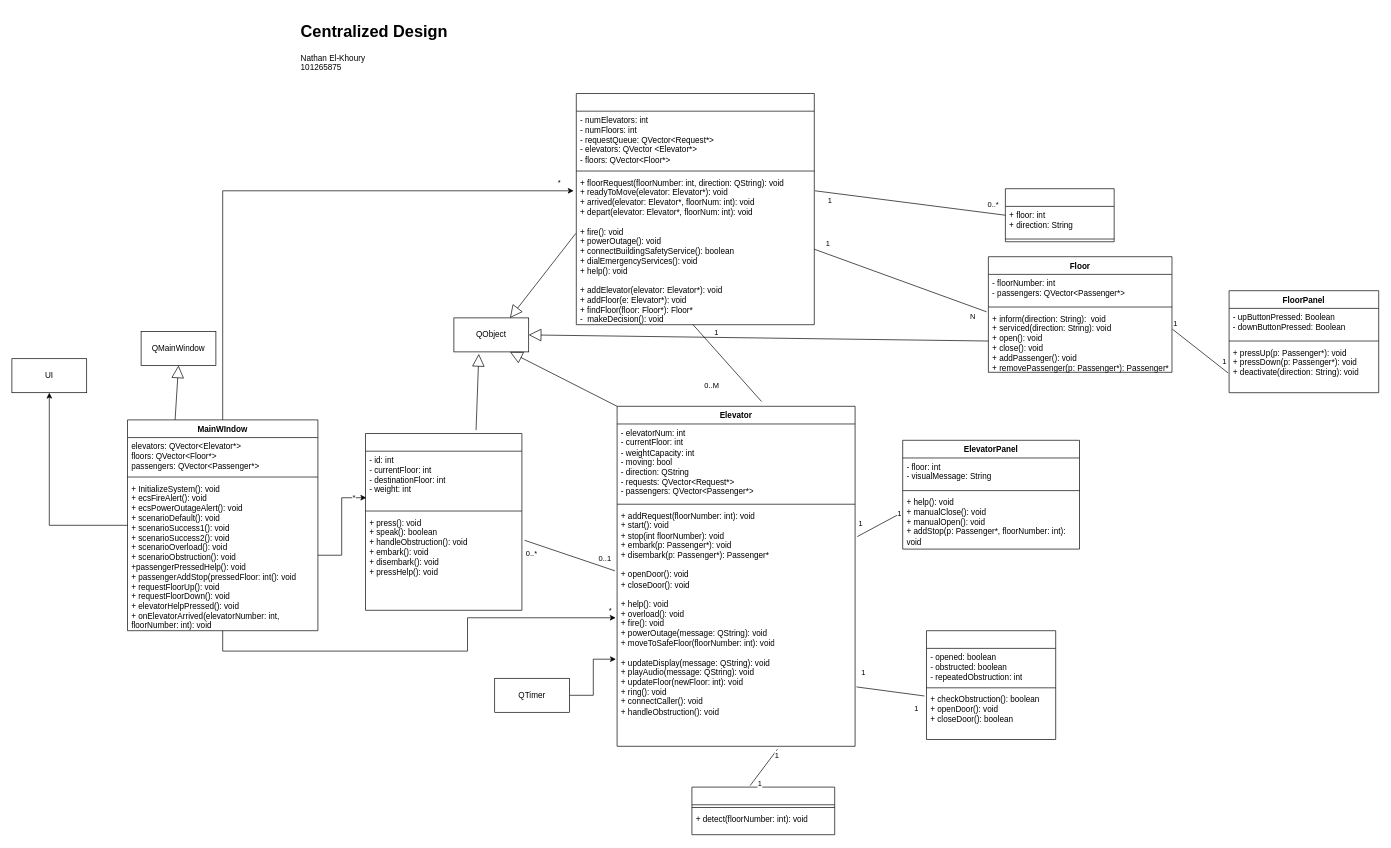
The diagram is 1391 pixels wide and 848 high, and some of its shapes have lost their labels. The shapes that lost their labels are listed below. From the top down, each one's box as (x1, y1, x2, y2) in pixels, then its label:
(576, 93, 814, 325): ElevatorControlSystem
(1005, 188, 1114, 242): Request
(365, 433, 522, 610): Passenger
(926, 630, 1056, 740): ElevatorDoor
(691, 786, 835, 835): FloorSensor
